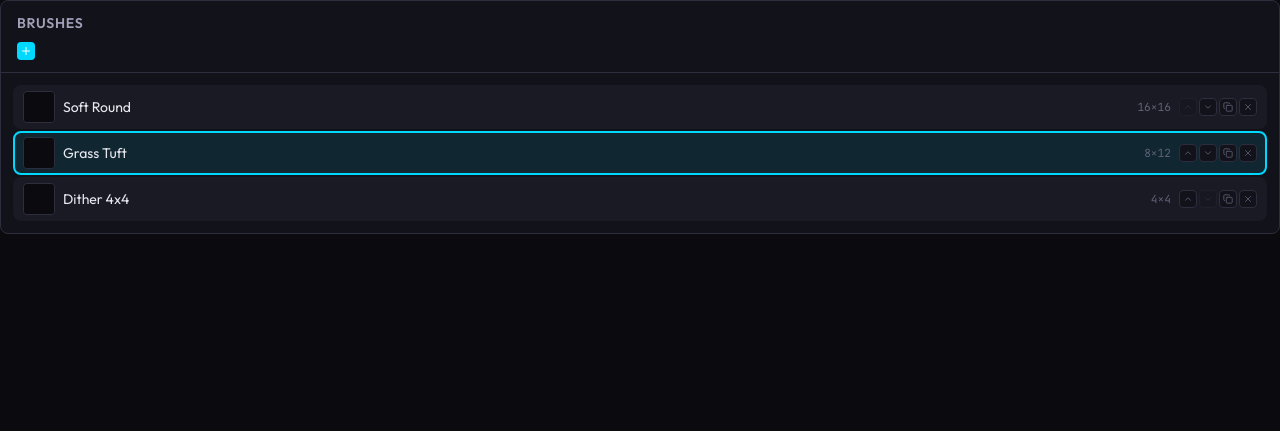
Test: BrushList — the create form › + opens the form with the 16×16 defaults; + again closes it
Click the button named "New brush": click(26, 51) left=17, top=42, right=35, bottom=60
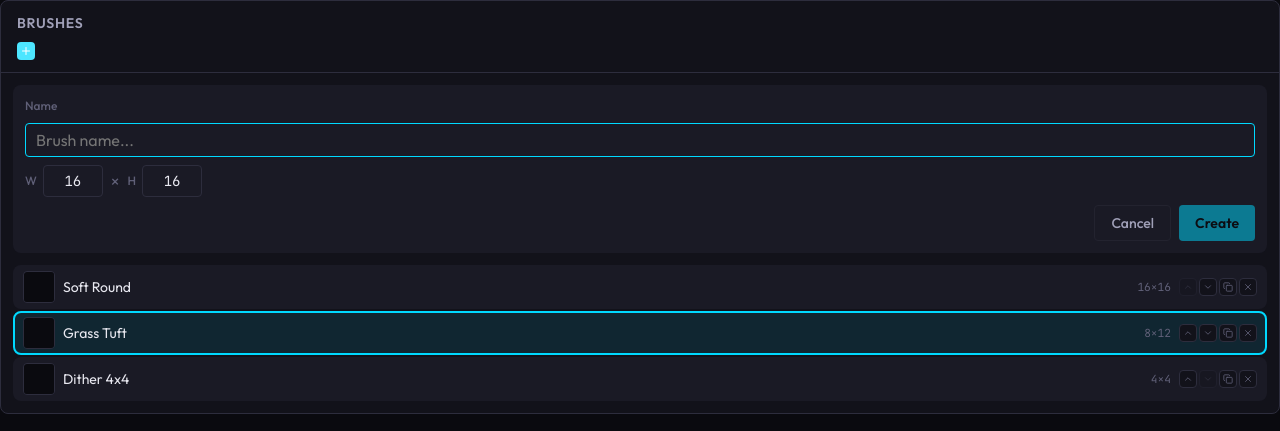
Expected: the button named "New brush" is expanded
Expected: the field labelled "Name" is empty, left=25, top=123, right=1255, bottom=157
Expected: the number field labelled "W" holds "16", left=43, top=165, right=103, bottom=197
Click the button named "New brush": click(26, 51) left=17, top=42, right=35, bottom=60
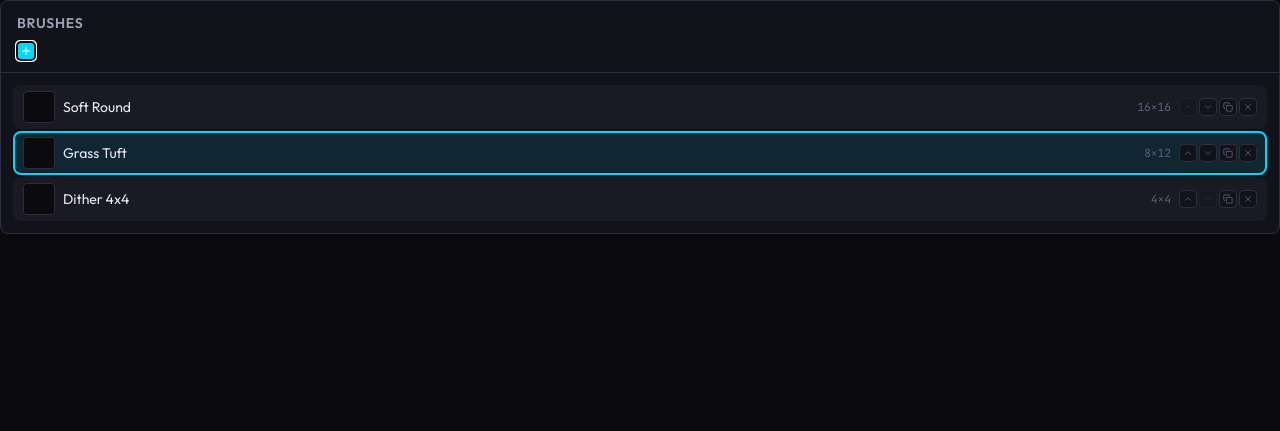
Expected: the label labelled "Name" is gone
